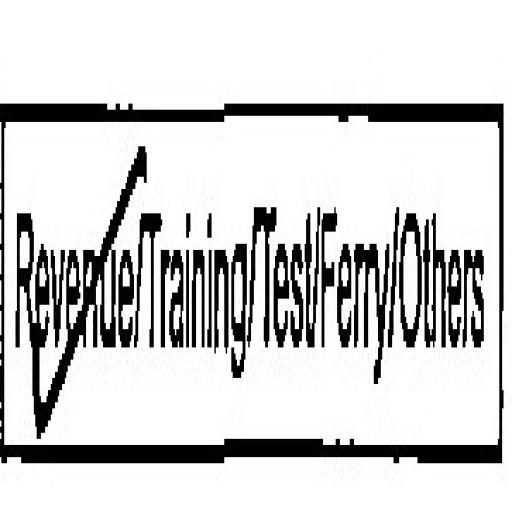check: (1, 0, 139, 512)
